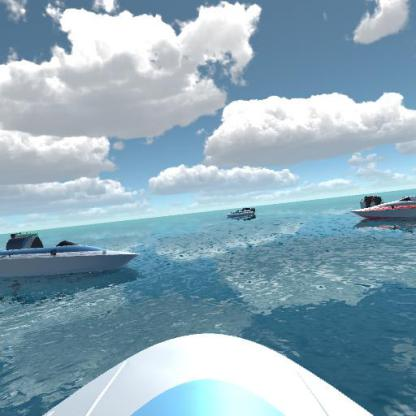usv0: (8, 227, 42, 240)
usv1: (0, 234, 137, 284), (222, 203, 258, 221)
usv3: (349, 192, 415, 232), (356, 188, 385, 212)
